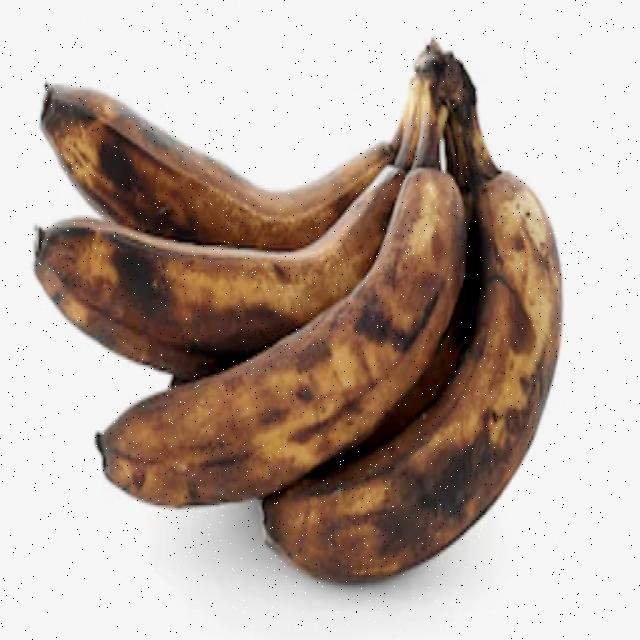rotten banana: (27, 0, 586, 583)
